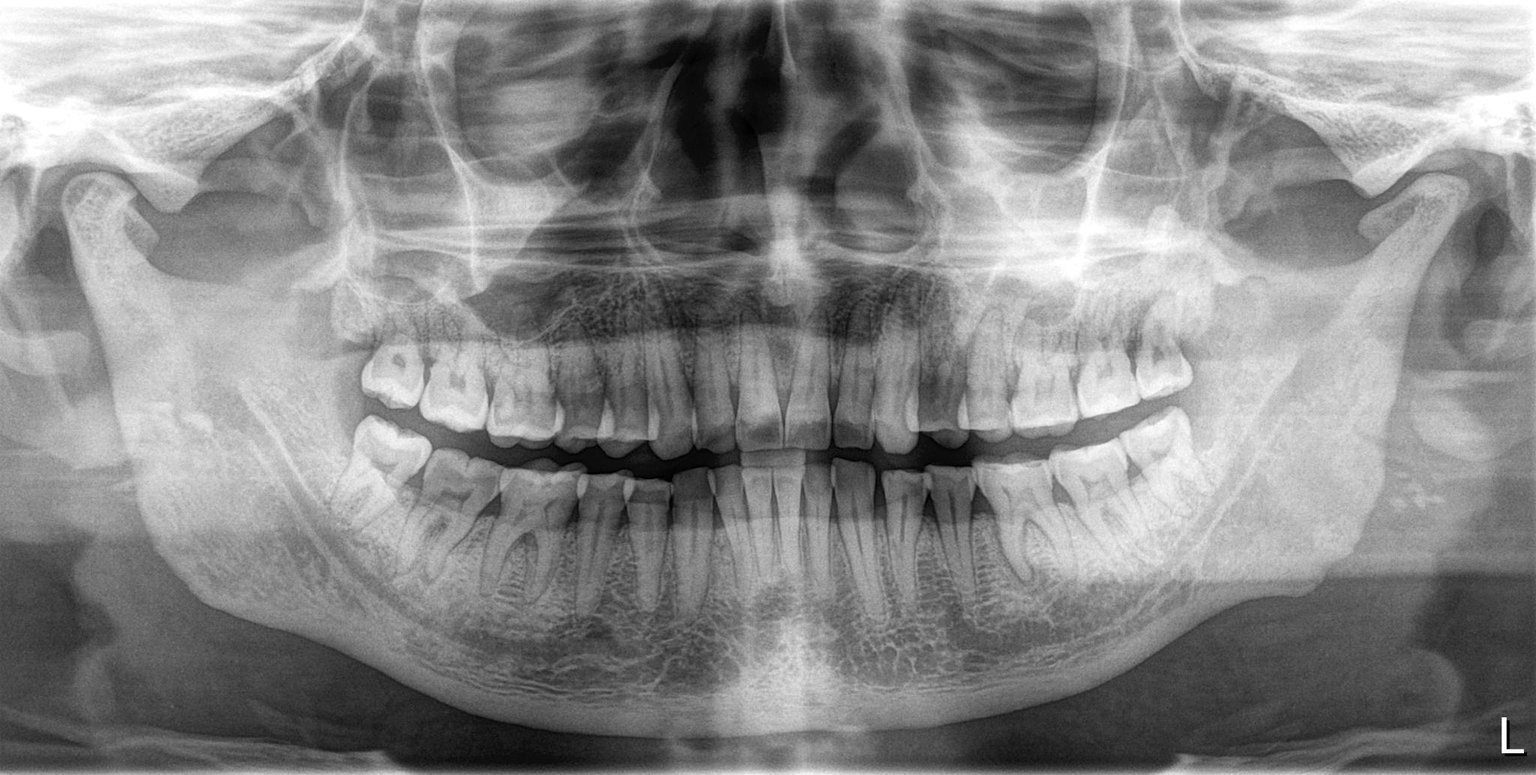Impacted Third Molar: (352, 423, 418, 524)
